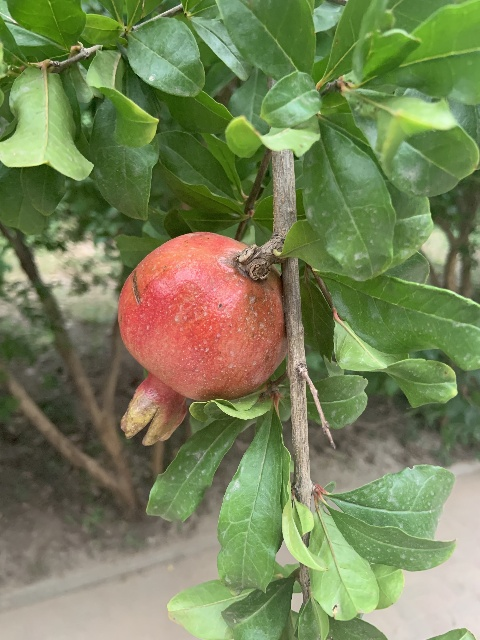ripe: (117, 230, 283, 446)
